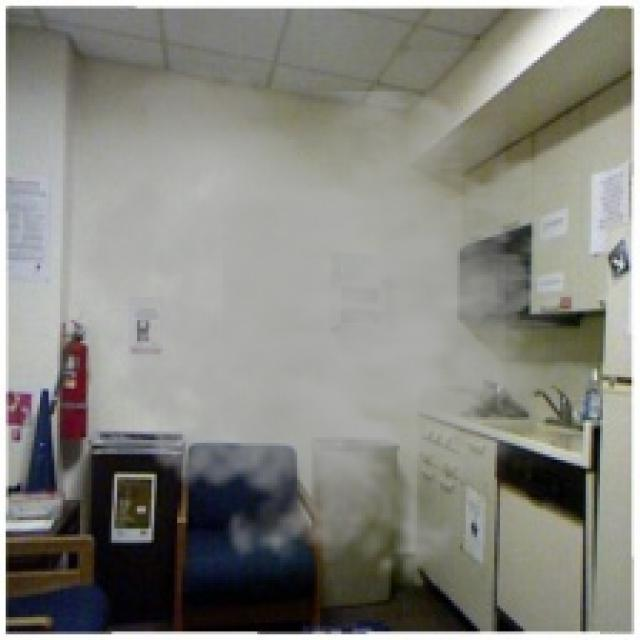smoke: (51, 51, 603, 594)
